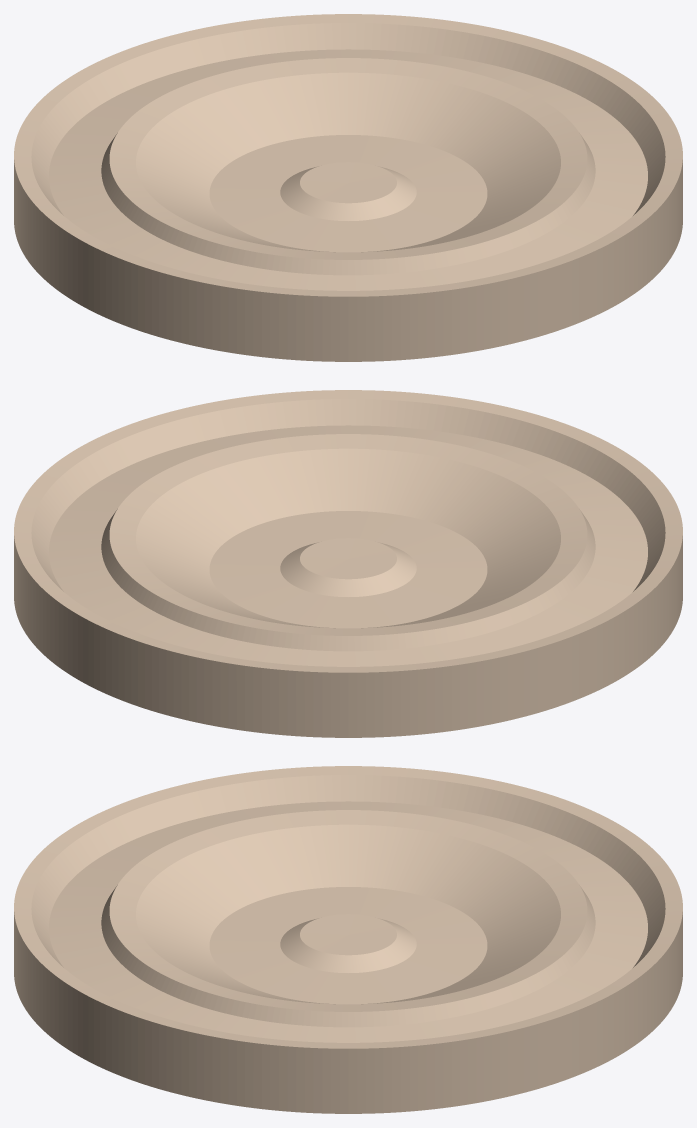
Rendered from GamingPiece_White.dae.
The picture shows the model from 3 angles, top to bottom: view 1: azimuth 30°, elevation 25°; view 2: azimuth 150°, elevation 25°; view 3: azimuth 270°, elevation 25°; orthographic projection.
Visible parts, largest first — view 1: GamingPiece; view 2: GamingPiece; view 3: GamingPiece.
Boxes of the visible parts, bbox=[...] form: GamingPiece: bbox=[14, 14, 682, 361]; GamingPiece: bbox=[14, 390, 682, 737]; GamingPiece: bbox=[14, 766, 682, 1113].
Bounding box in the file's own units: 4.32 × 4.32 × 0.4645.
